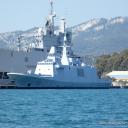Fragata: (7, 33, 115, 91)
